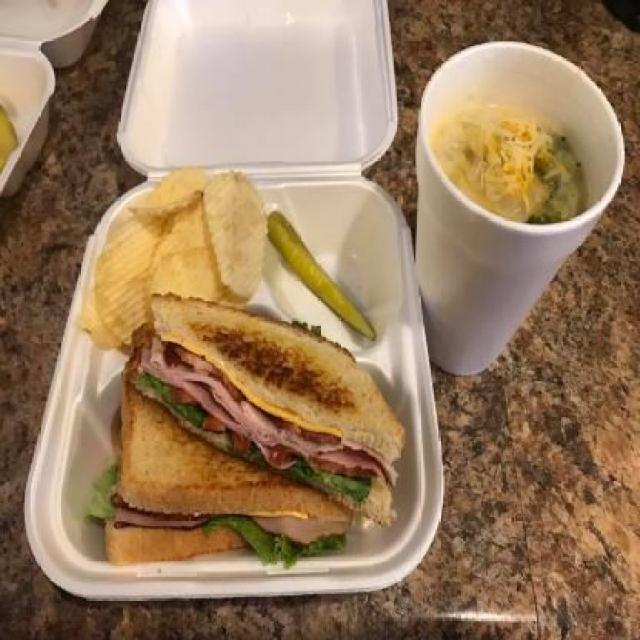clam chowder: (421, 35, 604, 327)
club sandwich: (110, 288, 395, 580)
